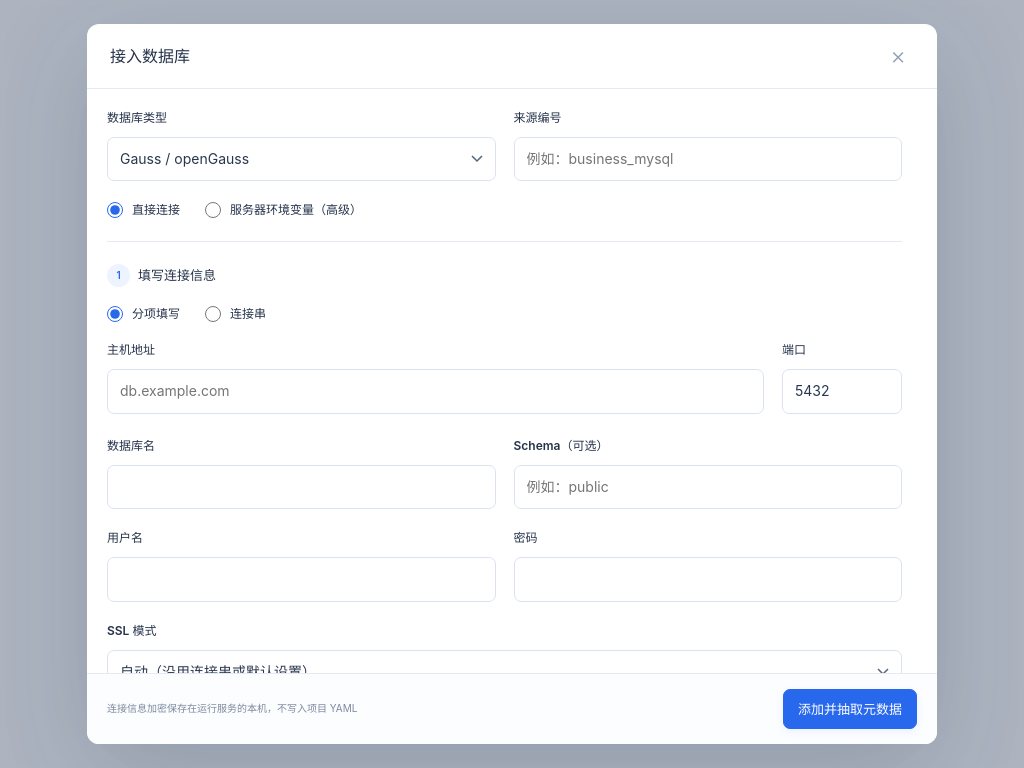
it: 数据库连接弹窗 › JDBC 缺少用户名时直接提示，不发送连接请求
The image size is (1024, 768).
Click the radio button labelled "连接串" at (213, 314), box [205, 306, 221, 322]
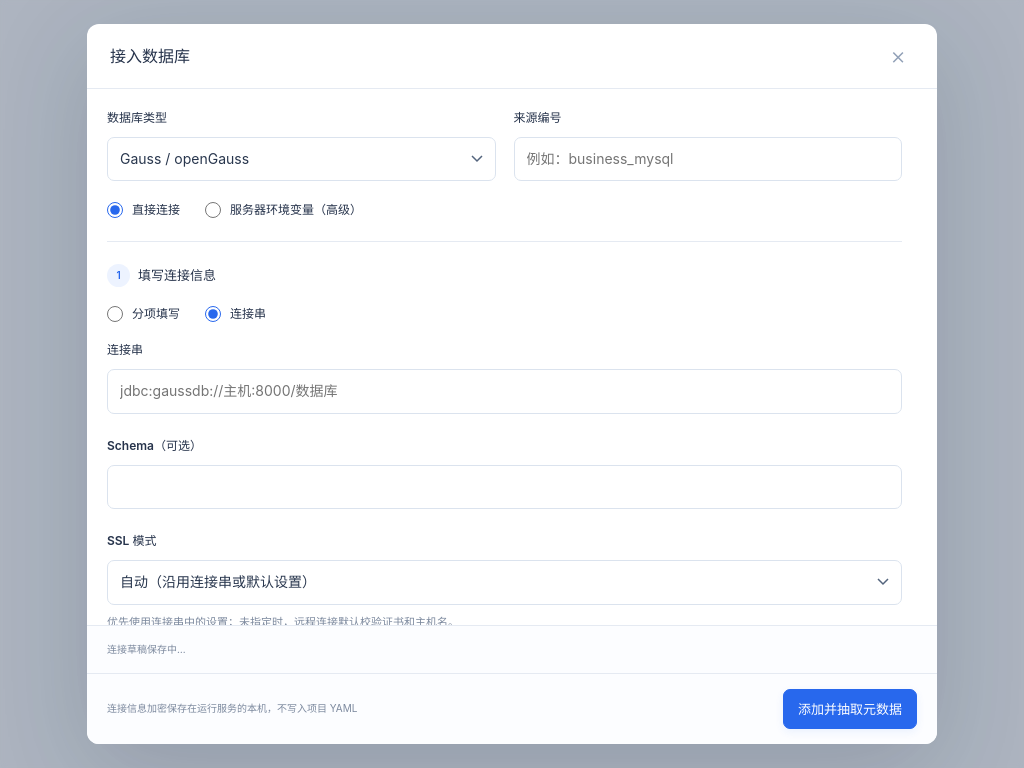
Type "jdbc:gaussdb://db.example.com:8000/analytics" into the field with id "database-dsn" at (504, 392), box [107, 369, 902, 414]
(page scrolled)
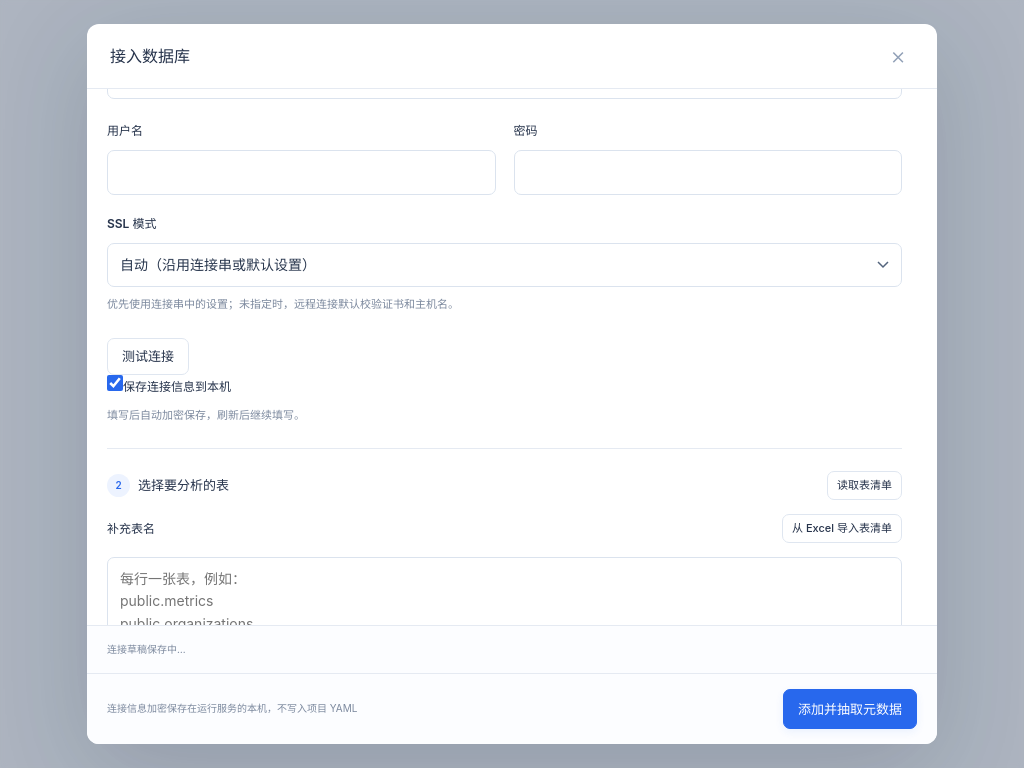
Click the button "测试连接" at (148, 357), box [107, 338, 189, 375]
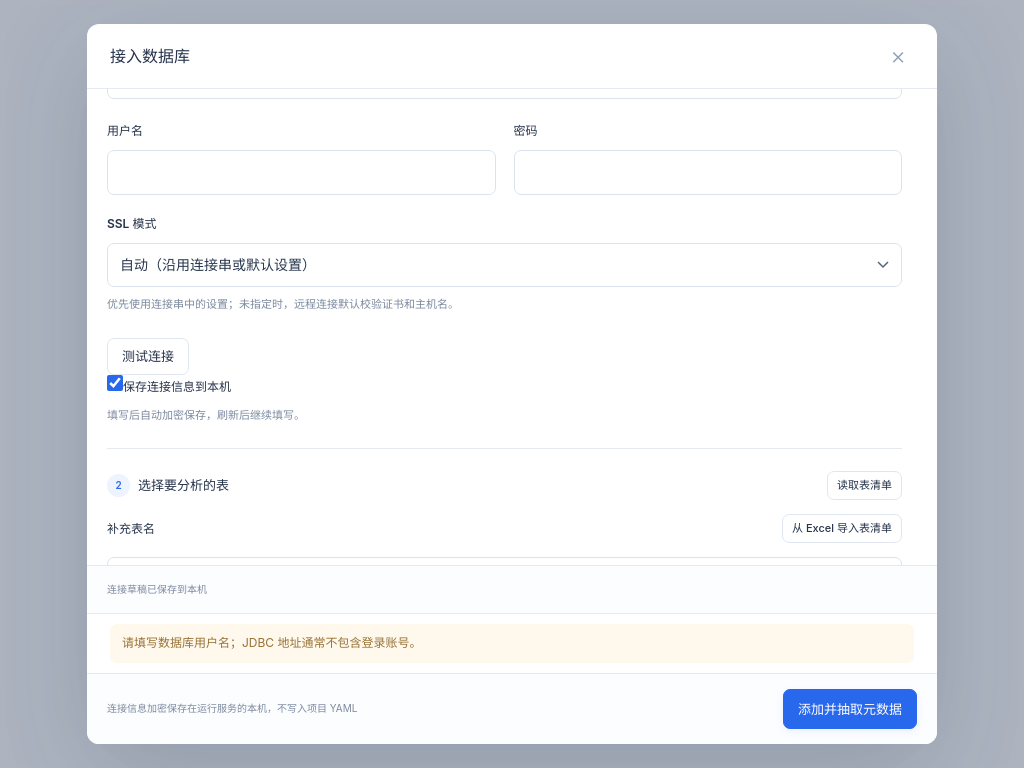
Expected: the message "请填写数据库用户名；JDBC 地址通常不包含登录账号。" is shown, [110, 624, 914, 663]
